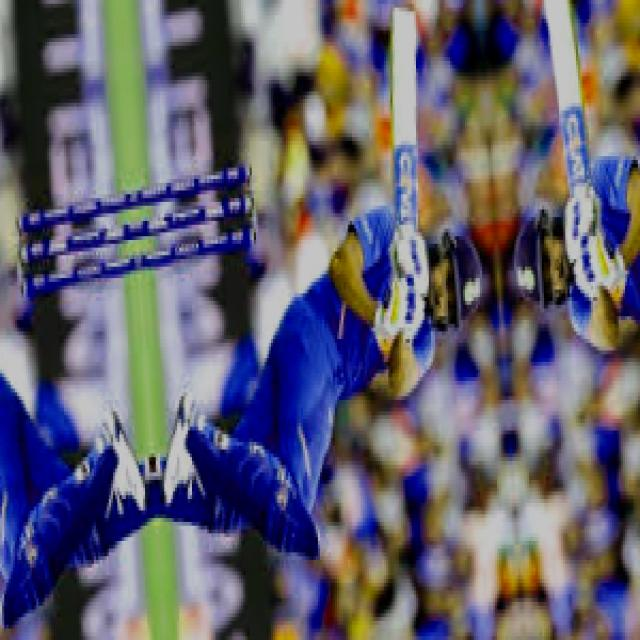toe: (387, 3, 422, 56)
